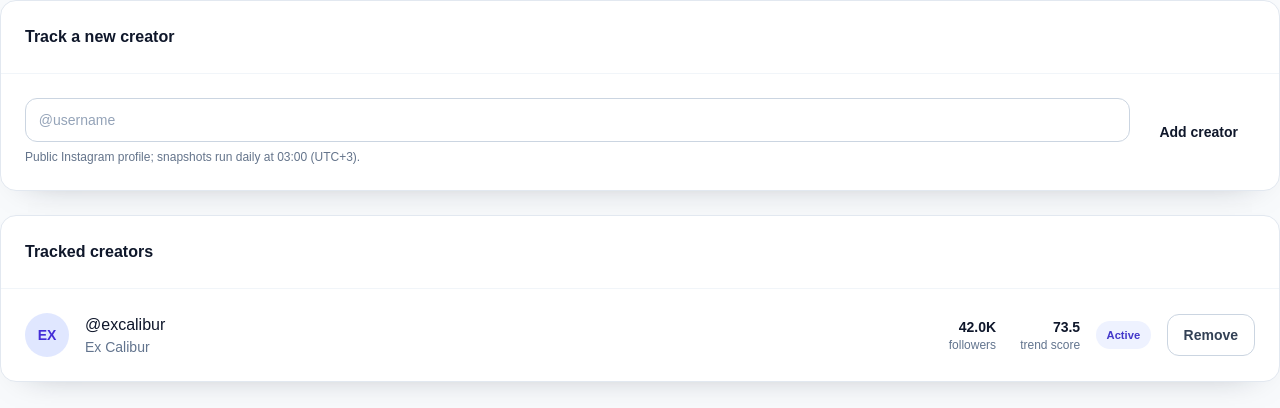
Test: CreatorsDashboard › shows the API error message when adding fails
This screenshot has width=1280, height=408.
Expected: the link "@excalibur" is shown, 85,316 -> 165,333
Type "ghost" into the field named "Instagram username".
click(578, 120); type("ghost")  # box 25,98 -> 1130,142
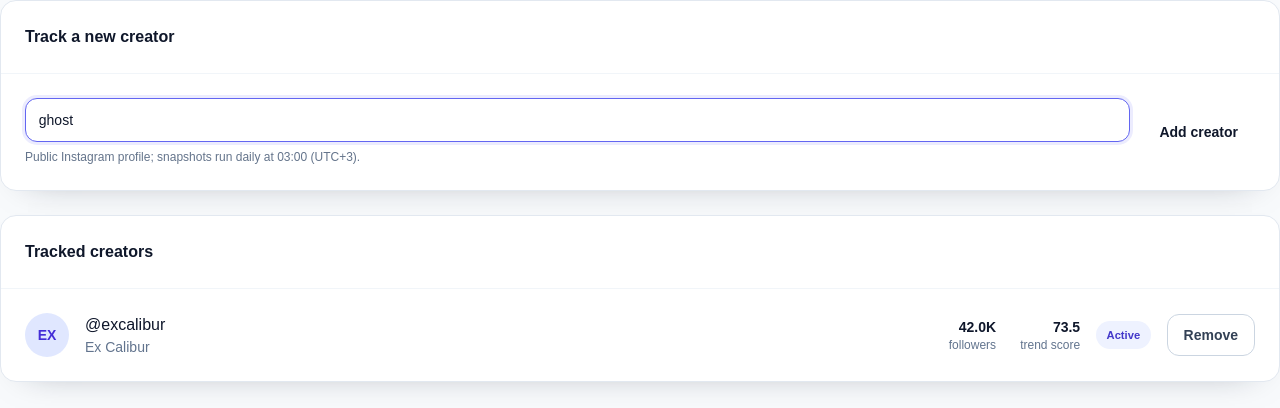
Click the button "Add creator".
click(1199, 132)  # box 1142,98 -> 1255,166
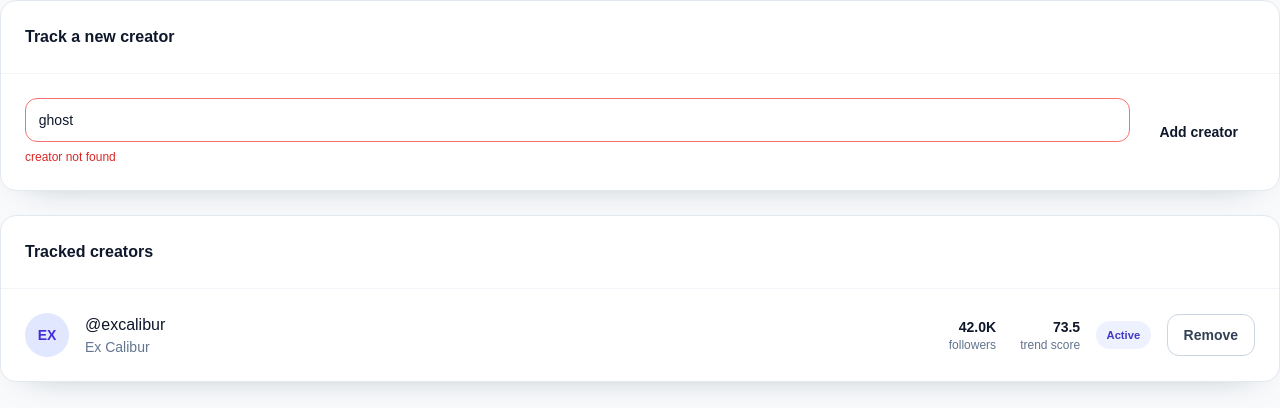
Expected: the message reads "creator not found", 25,150 -> 116,164
